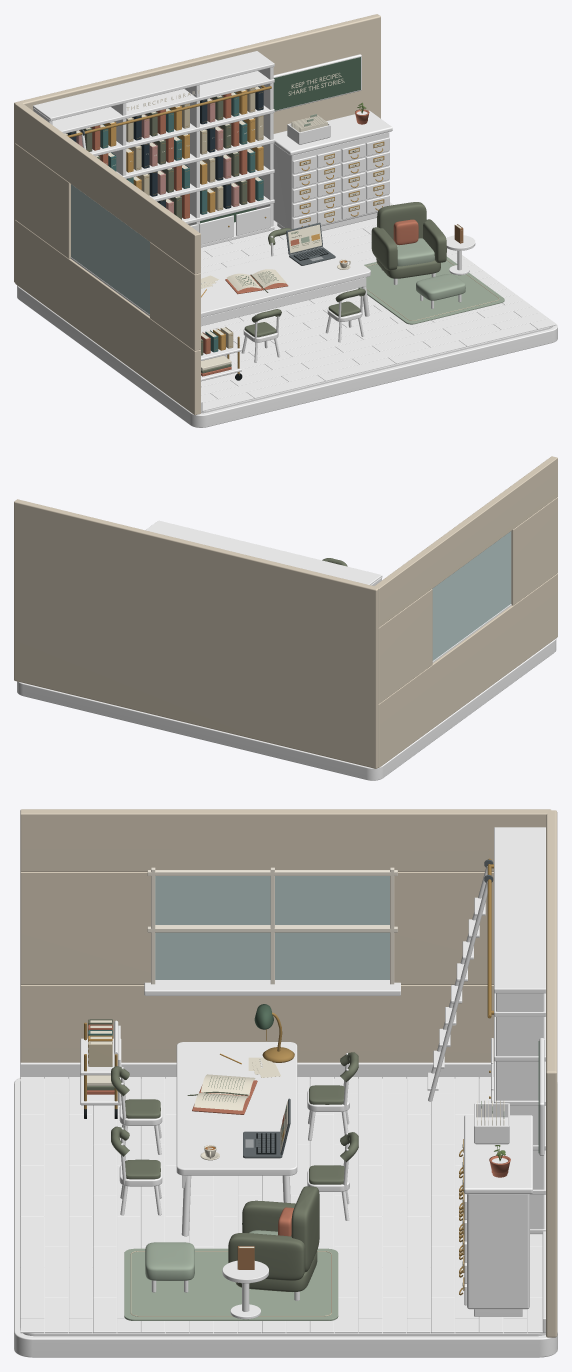
File: recipe-library.glb
3 renders of one model, top to bottom at view 1: azimuth 30°, elevation 25°; view 2: azimuth 150°, elevation 25°; view 3: azimuth 270°, elevation 25°, orthographic. The views are drawn at different scales.
Visible parts, largest first — view 1: Window wall lower export, Continuous rear wall export, Window wall upper export, Rounded walnut diorama plinth export, Window softly blue glazing export, Shared recipe reading table rounded top export, Library thick shelf.006 export, Window wall far export, Reading nook woven rug export, Window wall near export, Library thick shelf.005 export, Card catalog solid case export (+42 smaller); view 2: Continuous rear wall export, Window wall lower export, Window wall upper export, Rounded walnut diorama plinth export, Window softly blue glazing export, Window wall far export, Window wall near export, Library thick shelf.006 export; view 3: Window wall upper export, Window wall lower export, Window softly blue glazing export, Window wall near export, Rounded walnut diorama plinth export, Shared recipe reading table rounded top export, Window wall far export, Reading nook woven rug export, Library thick shelf.006 export, Card catalog solid case export, Continuous rear wall export, Bookcase vertical divider.003 export (+76 smaller).
Boxes of the visible parts, x1,y1,x2,y2 form: Window wall lower export: [15, 220, 200, 415]; Continuous rear wall export: [14, 14, 380, 282]; Window wall upper export: [15, 103, 200, 274]; Rounded walnut diorama plinth export: [17, 202, 557, 427]; Window softly blue glazing export: [71, 184, 149, 314]; Shared recipe reading table rounded top export: [201, 242, 370, 317]; Library thick shelf.006 export: [33, 51, 274, 121]; Window wall far export: [15, 143, 70, 258]; Reading nook woven rug export: [358, 256, 504, 324]; Window wall near export: [150, 242, 200, 350]; Library thick shelf.005 export: [52, 71, 274, 133]; Card catalog solid case export: [273, 132, 389, 228]; Continuous rear wall export: [14, 499, 378, 768]; Window wall lower export: [378, 573, 557, 767]; Window wall upper export: [374, 456, 557, 627]; Rounded walnut diorama plinth export: [17, 638, 556, 780]; Window softly blue glazing export: [432, 531, 511, 660]; Window wall far export: [378, 589, 432, 703]; Window wall near export: [511, 497, 557, 605]; Library thick shelf.006 export: [145, 520, 382, 585]; Window wall upper export: [20, 809, 550, 871]; Window wall lower export: [20, 984, 493, 1078]; Window softly blue glazing export: [155, 876, 389, 979]; Window wall near export: [20, 871, 150, 984]; Rounded walnut diorama plinth export: [14, 1078, 557, 1357]; Shared recipe reading table rounded top export: [176, 1042, 297, 1175]; Window wall far export: [394, 872, 493, 984]; Reading nook woven rug export: [124, 1248, 338, 1320]; Library thick shelf.006 export: [494, 827, 545, 993]; Card catalog solid case export: [467, 1194, 529, 1309]; Continuous rear wall export: [546, 810, 557, 1337]; Bookcase vertical divider.003 export: [496, 993, 544, 1229].
Size of the model in its own units: 7.76 by 3.91 by 6.76.
